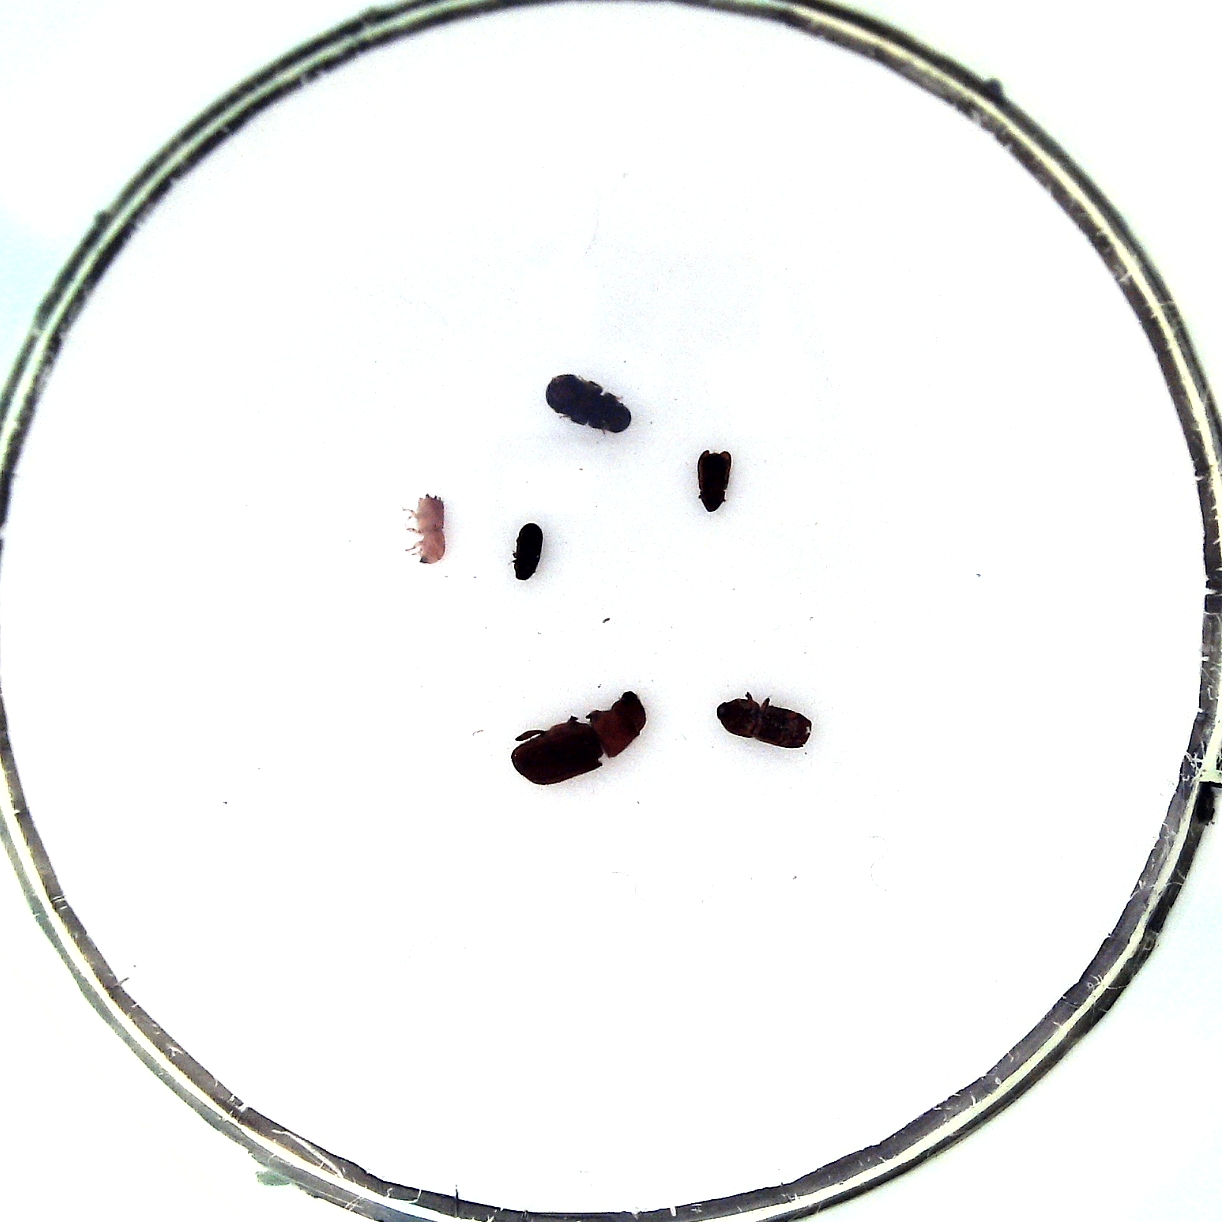Leconte: (510, 690, 646, 786)
acuminatus: (514, 521, 543, 580)
armandi: (546, 374, 631, 433)
coleoptera: (696, 449, 732, 513), (416, 493, 445, 564)
linnaeus: (716, 699, 811, 749)
